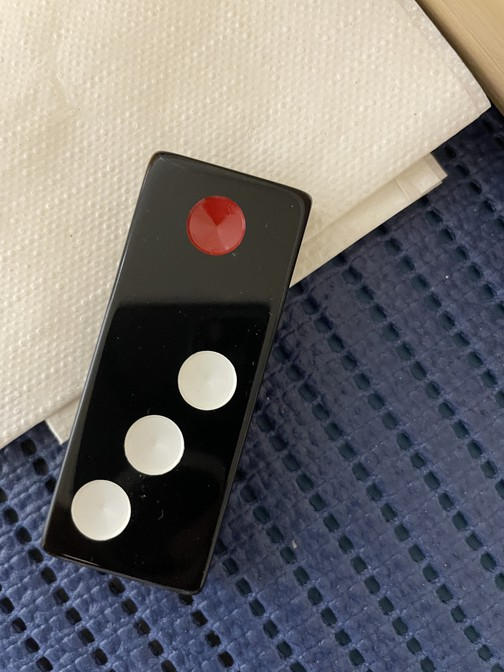goose: (42, 151, 312, 598)
